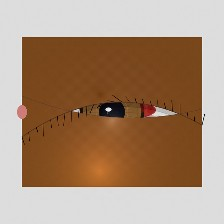hemorrhage_spot: (78, 74, 168, 146)
